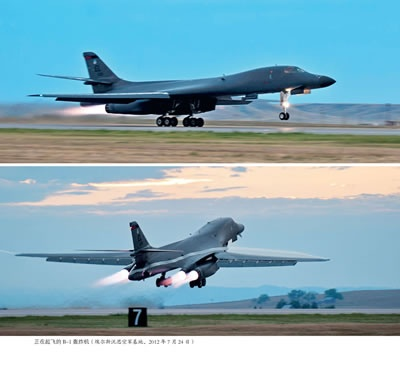airplane: (9, 210, 330, 289), (21, 52, 340, 131)
